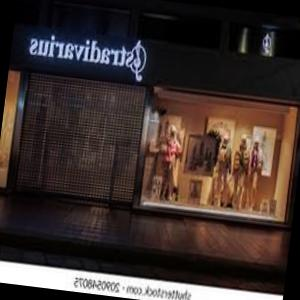stradivarius: (23, 23, 158, 85)
